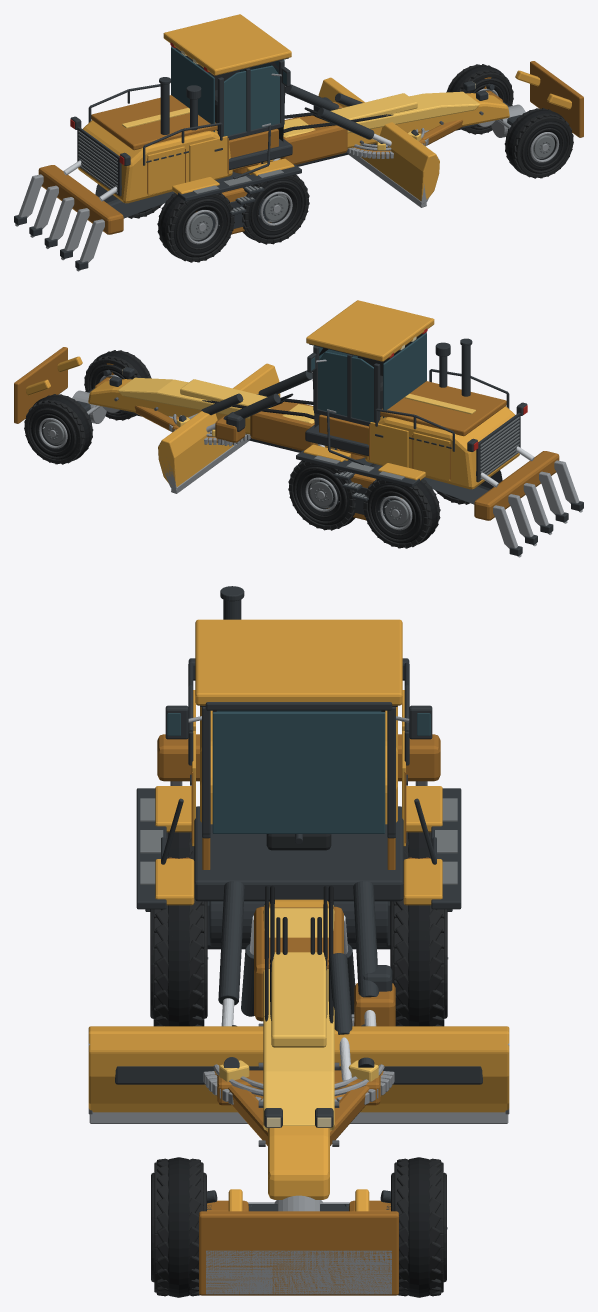
Rendered from cat-140-structural-study.glb.
The picture shows the model from 3 angles, top to bottom: view 1: azimuth 30°, elevation 25°; view 2: azimuth 150°, elevation 25°; view 3: azimuth 270°, elevation 25°; orthographic projection. The views are drawn at different scales.
Visible parts, largest first — view 1: Cab_Roof, Moldboard_Curved_Shell, Cab_Side_Glass_R, Engine_Hood_Crown, Engine_Hood_Core, Front_Frame_Upper_Flange, Rear_Ripper_Beam, Front_Frame_Fuel_Tank, Push_Block_Main_Plate, Cab_Rear_Glass, Front_Frame_Box, Rear_R_Rear_Tire_Carcass (+31 smaller); view 2: Cab_Roof, Moldboard_Curved_Shell, Engine_Hood_Crown, Cab_Side_Glass_L, Engine_Hood_Core, Front_Frame_Upper_Flange, Cab_Rear_Glass, Rear_Ripper_Beam, Front_Frame_Fuel_Tank, Push_Block_Main_Plate, Rear_L_Rear_Tire_Carcass, Front_Frame_Box (+33 smaller); view 3: Moldboard_Curved_Shell, Cab_Front_Glass, Cab_Roof, Push_Block_Main_Plate, Cab_Floor, Push_Block_Wear_Face, Front_Frame_Upper_Flange, Front_Frame_Service_Top, Front_Frame_Box, Moldboard_Cutting_Edge, Moldboard_Sideshift_Rail, Rear_Ripper_Beam (+24 smaller).
Part boxes in pixels (x1,y1,x2,y2): Cab_Roof: (163, 14, 291, 75); Moldboard_Curved_Shell: (318, 77, 439, 200); Cab_Side_Glass_R: (224, 65, 279, 136); Engine_Hood_Crown: (91, 95, 217, 150); Engine_Hood_Core: (78, 120, 232, 203); Front_Frame_Upper_Flange: (283, 91, 479, 137); Rear_Ripper_Beam: (38, 165, 123, 234); Front_Frame_Fuel_Tank: (280, 115, 347, 164); Push_Block_Main_Plate: (530, 61, 583, 137); Cab_Rear_Glass: (171, 47, 214, 131); Front_Frame_Box: (263, 93, 509, 162); Rear_R_Rear_Tire_Carcass: (160, 193, 229, 258); Cab_Roof: (306, 300, 434, 361); Moldboard_Curved_Shell: (158, 363, 280, 486); Engine_Hood_Crown: (380, 381, 506, 436); Cab_Side_Glass_L: (318, 351, 373, 422); Engine_Hood_Core: (365, 406, 519, 489); Front_Frame_Upper_Flange: (118, 377, 314, 423); Cab_Rear_Glass: (383, 333, 426, 417); Rear_Ripper_Beam: (474, 451, 559, 520); Front_Frame_Fuel_Tank: (250, 401, 317, 450); Push_Block_Main_Plate: (14, 347, 67, 423); Rear_L_Rear_Tire_Carcass: (368, 479, 437, 544); Front_Frame_Box: (88, 379, 334, 448); Moldboard_Curved_Shell: (88, 1026, 509, 1112); Cab_Front_Glass: (212, 712, 385, 833); Cab_Roof: (195, 619, 402, 705); Push_Block_Main_Plate: (199, 1211, 398, 1295); Cab_Floor: (194, 806, 403, 901); Push_Block_Wear_Face: (206, 1250, 391, 1294); Front_Frame_Upper_Flange: (263, 905, 334, 1130); Front_Frame_Service_Top: (271, 952, 326, 1047); Front_Frame_Box: (268, 899, 329, 1199); Moldboard_Cutting_Edge: (89, 1112, 508, 1123); Moldboard_Sideshift_Rail: (115, 1066, 482, 1084); Rear_Ripper_Beam: (157, 734, 440, 781).
Bounding box in the file's own units: 10.3 × 3.45 × 3.66.
